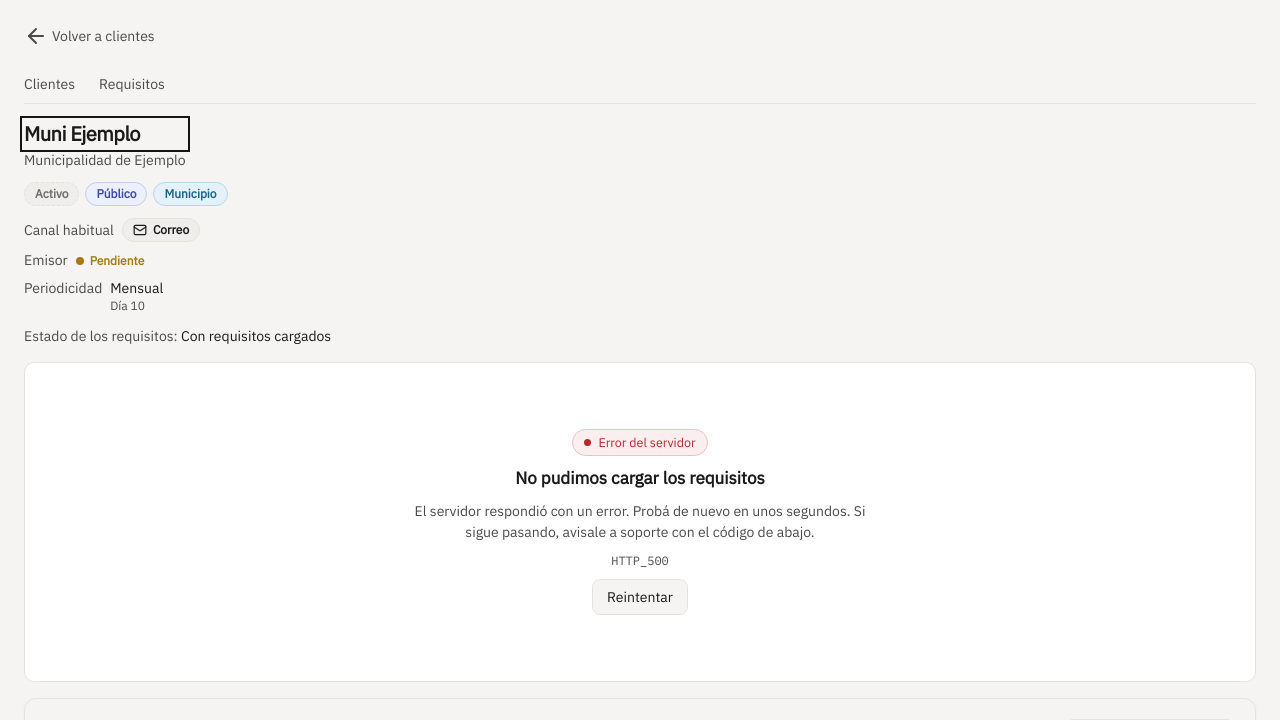
Test case: MatrizPage: requisitos › un fallo al cargar los requisitos no se muestra como lista vacía
Expected: the message shows "No pudimos cargar los requisitos", [515, 467, 765, 489]
Expected: the message shows "Error del servidor", [598, 434, 696, 450]
Click the button "Reintentar". click: (640, 597)
box: [592, 579, 688, 615]
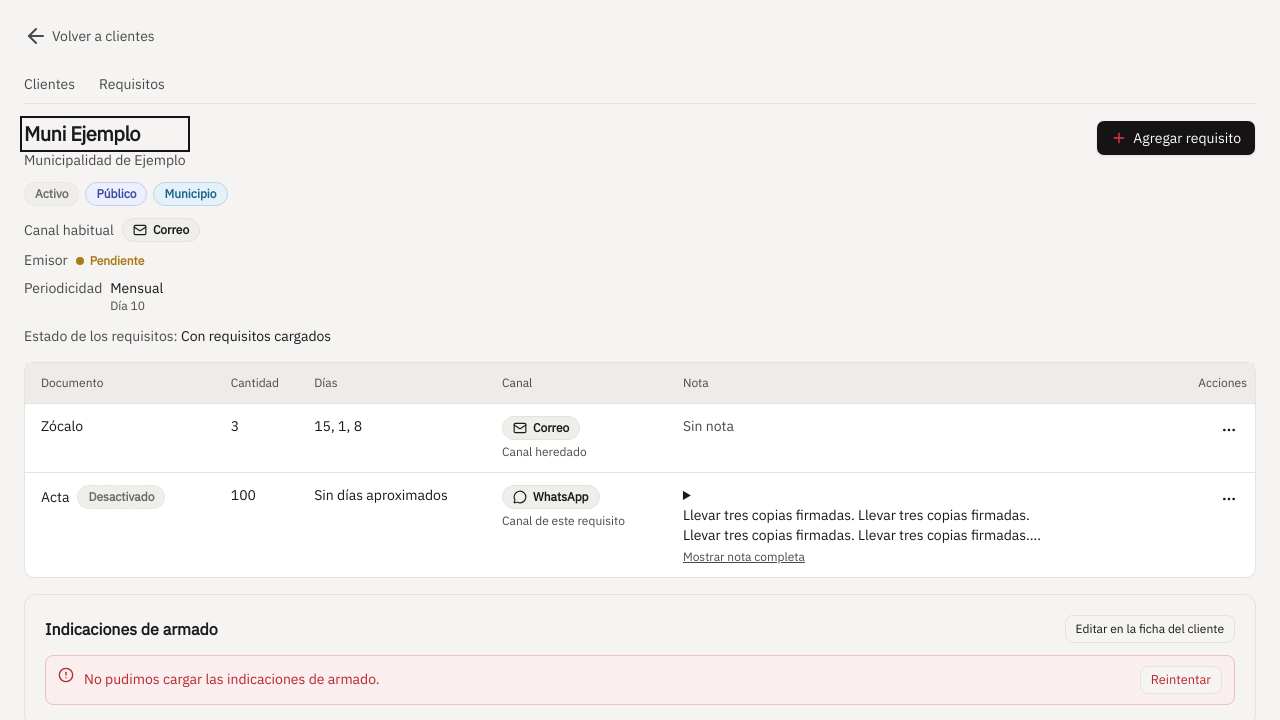
Expected: the table named "Requisitos de Muni Ejemplo" is shown, [25, 363, 1255, 577]
